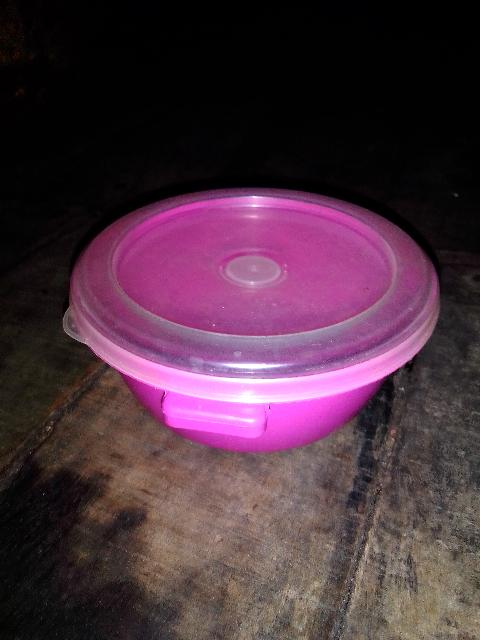hardplastic: (55, 164, 469, 456)
